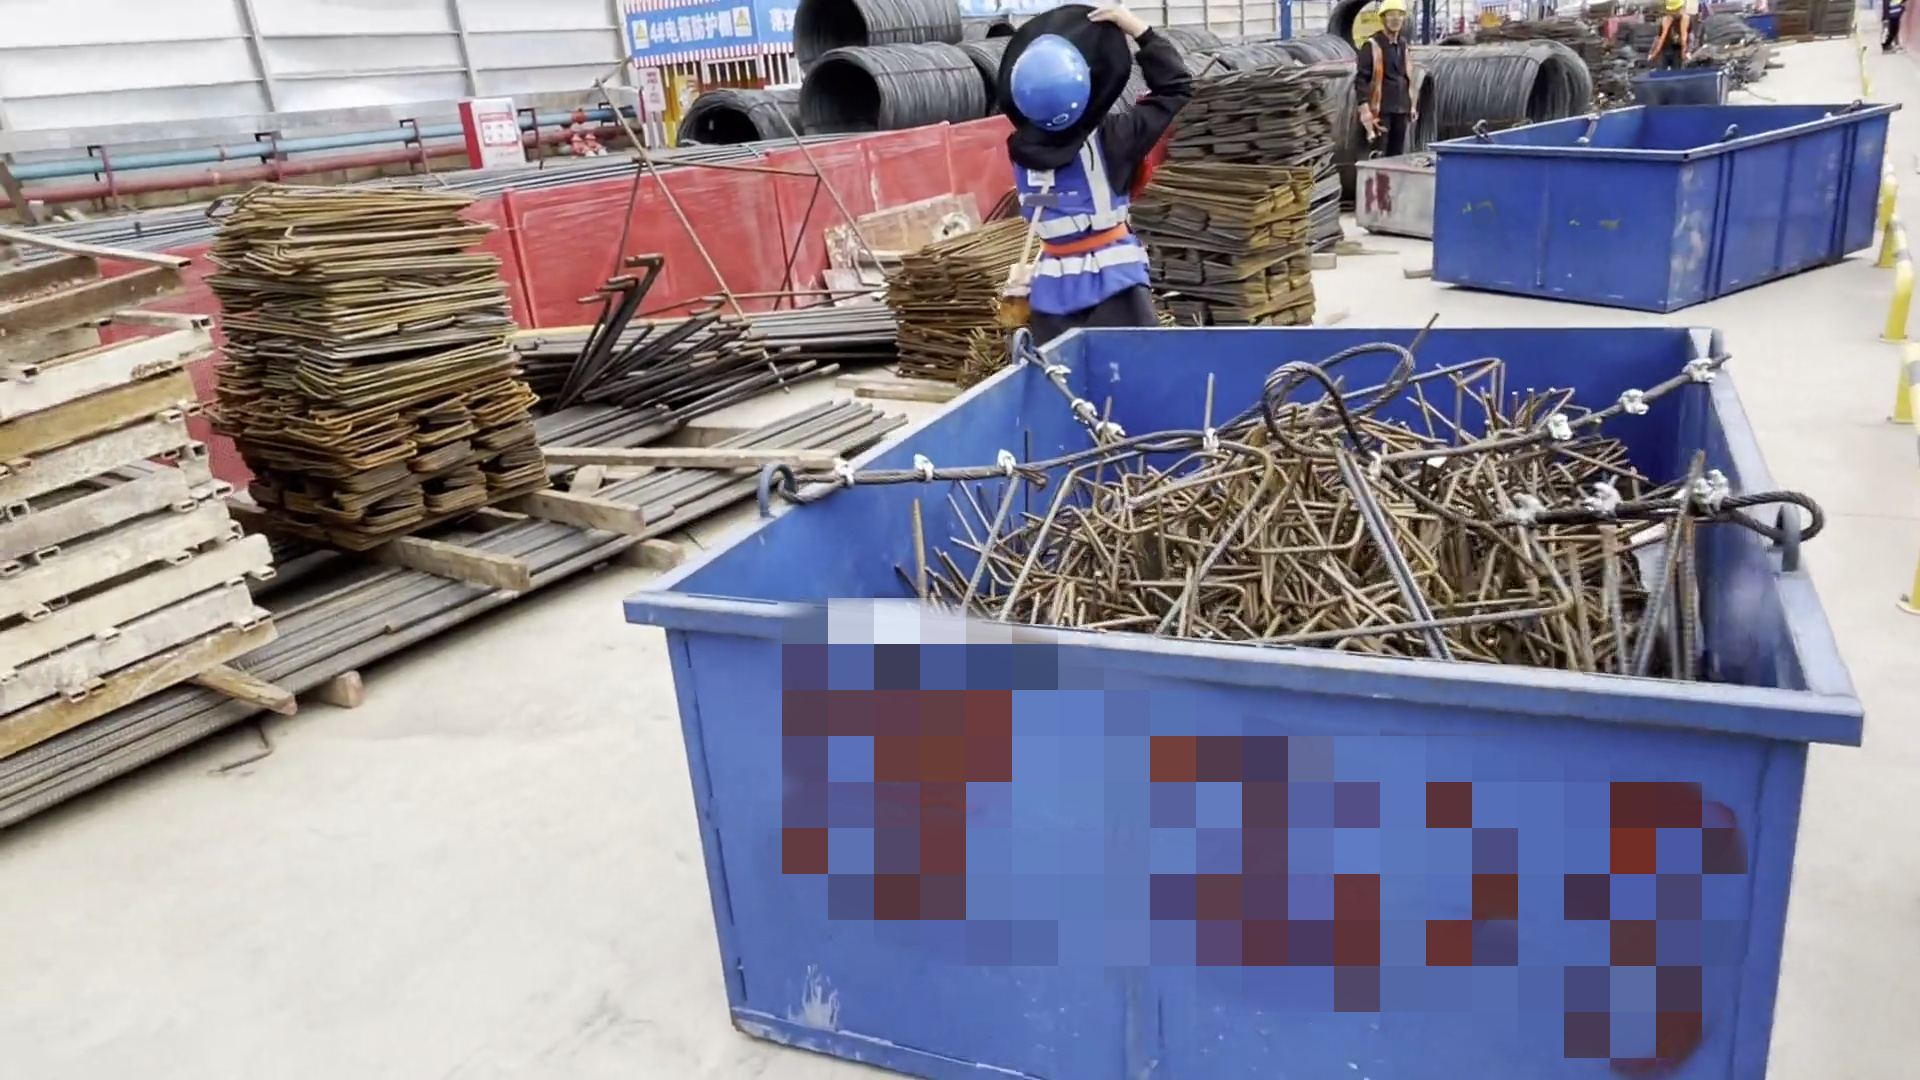fence: (7, 10, 625, 119)
helmet: (1008, 33, 1097, 123)
hopper: (622, 316, 1869, 1080), (1442, 112, 1904, 319), (1351, 157, 1434, 241), (1638, 72, 1727, 109)
person: (1002, 1, 1187, 321), (1352, 1, 1416, 153), (1652, 1, 1690, 63), (1878, 1, 1908, 59)
rebar: (1, 536, 554, 854), (551, 303, 886, 377)
slogan: (631, 7, 747, 55)
vest: (1005, 137, 1129, 287), (1358, 31, 1419, 125), (1373, 1, 1411, 23)
